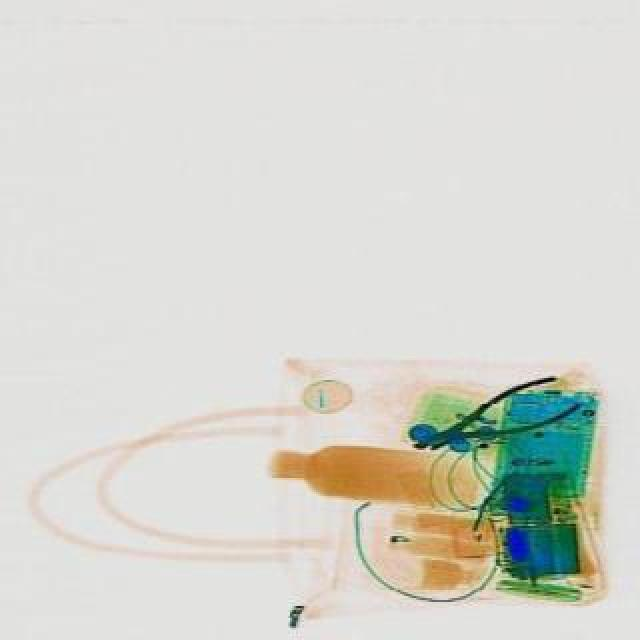wrench: (402, 366, 582, 470)
